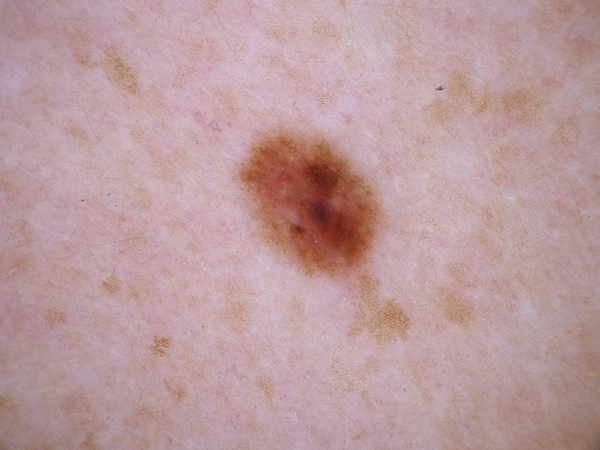Detected Lesion: (243, 119, 389, 283)
